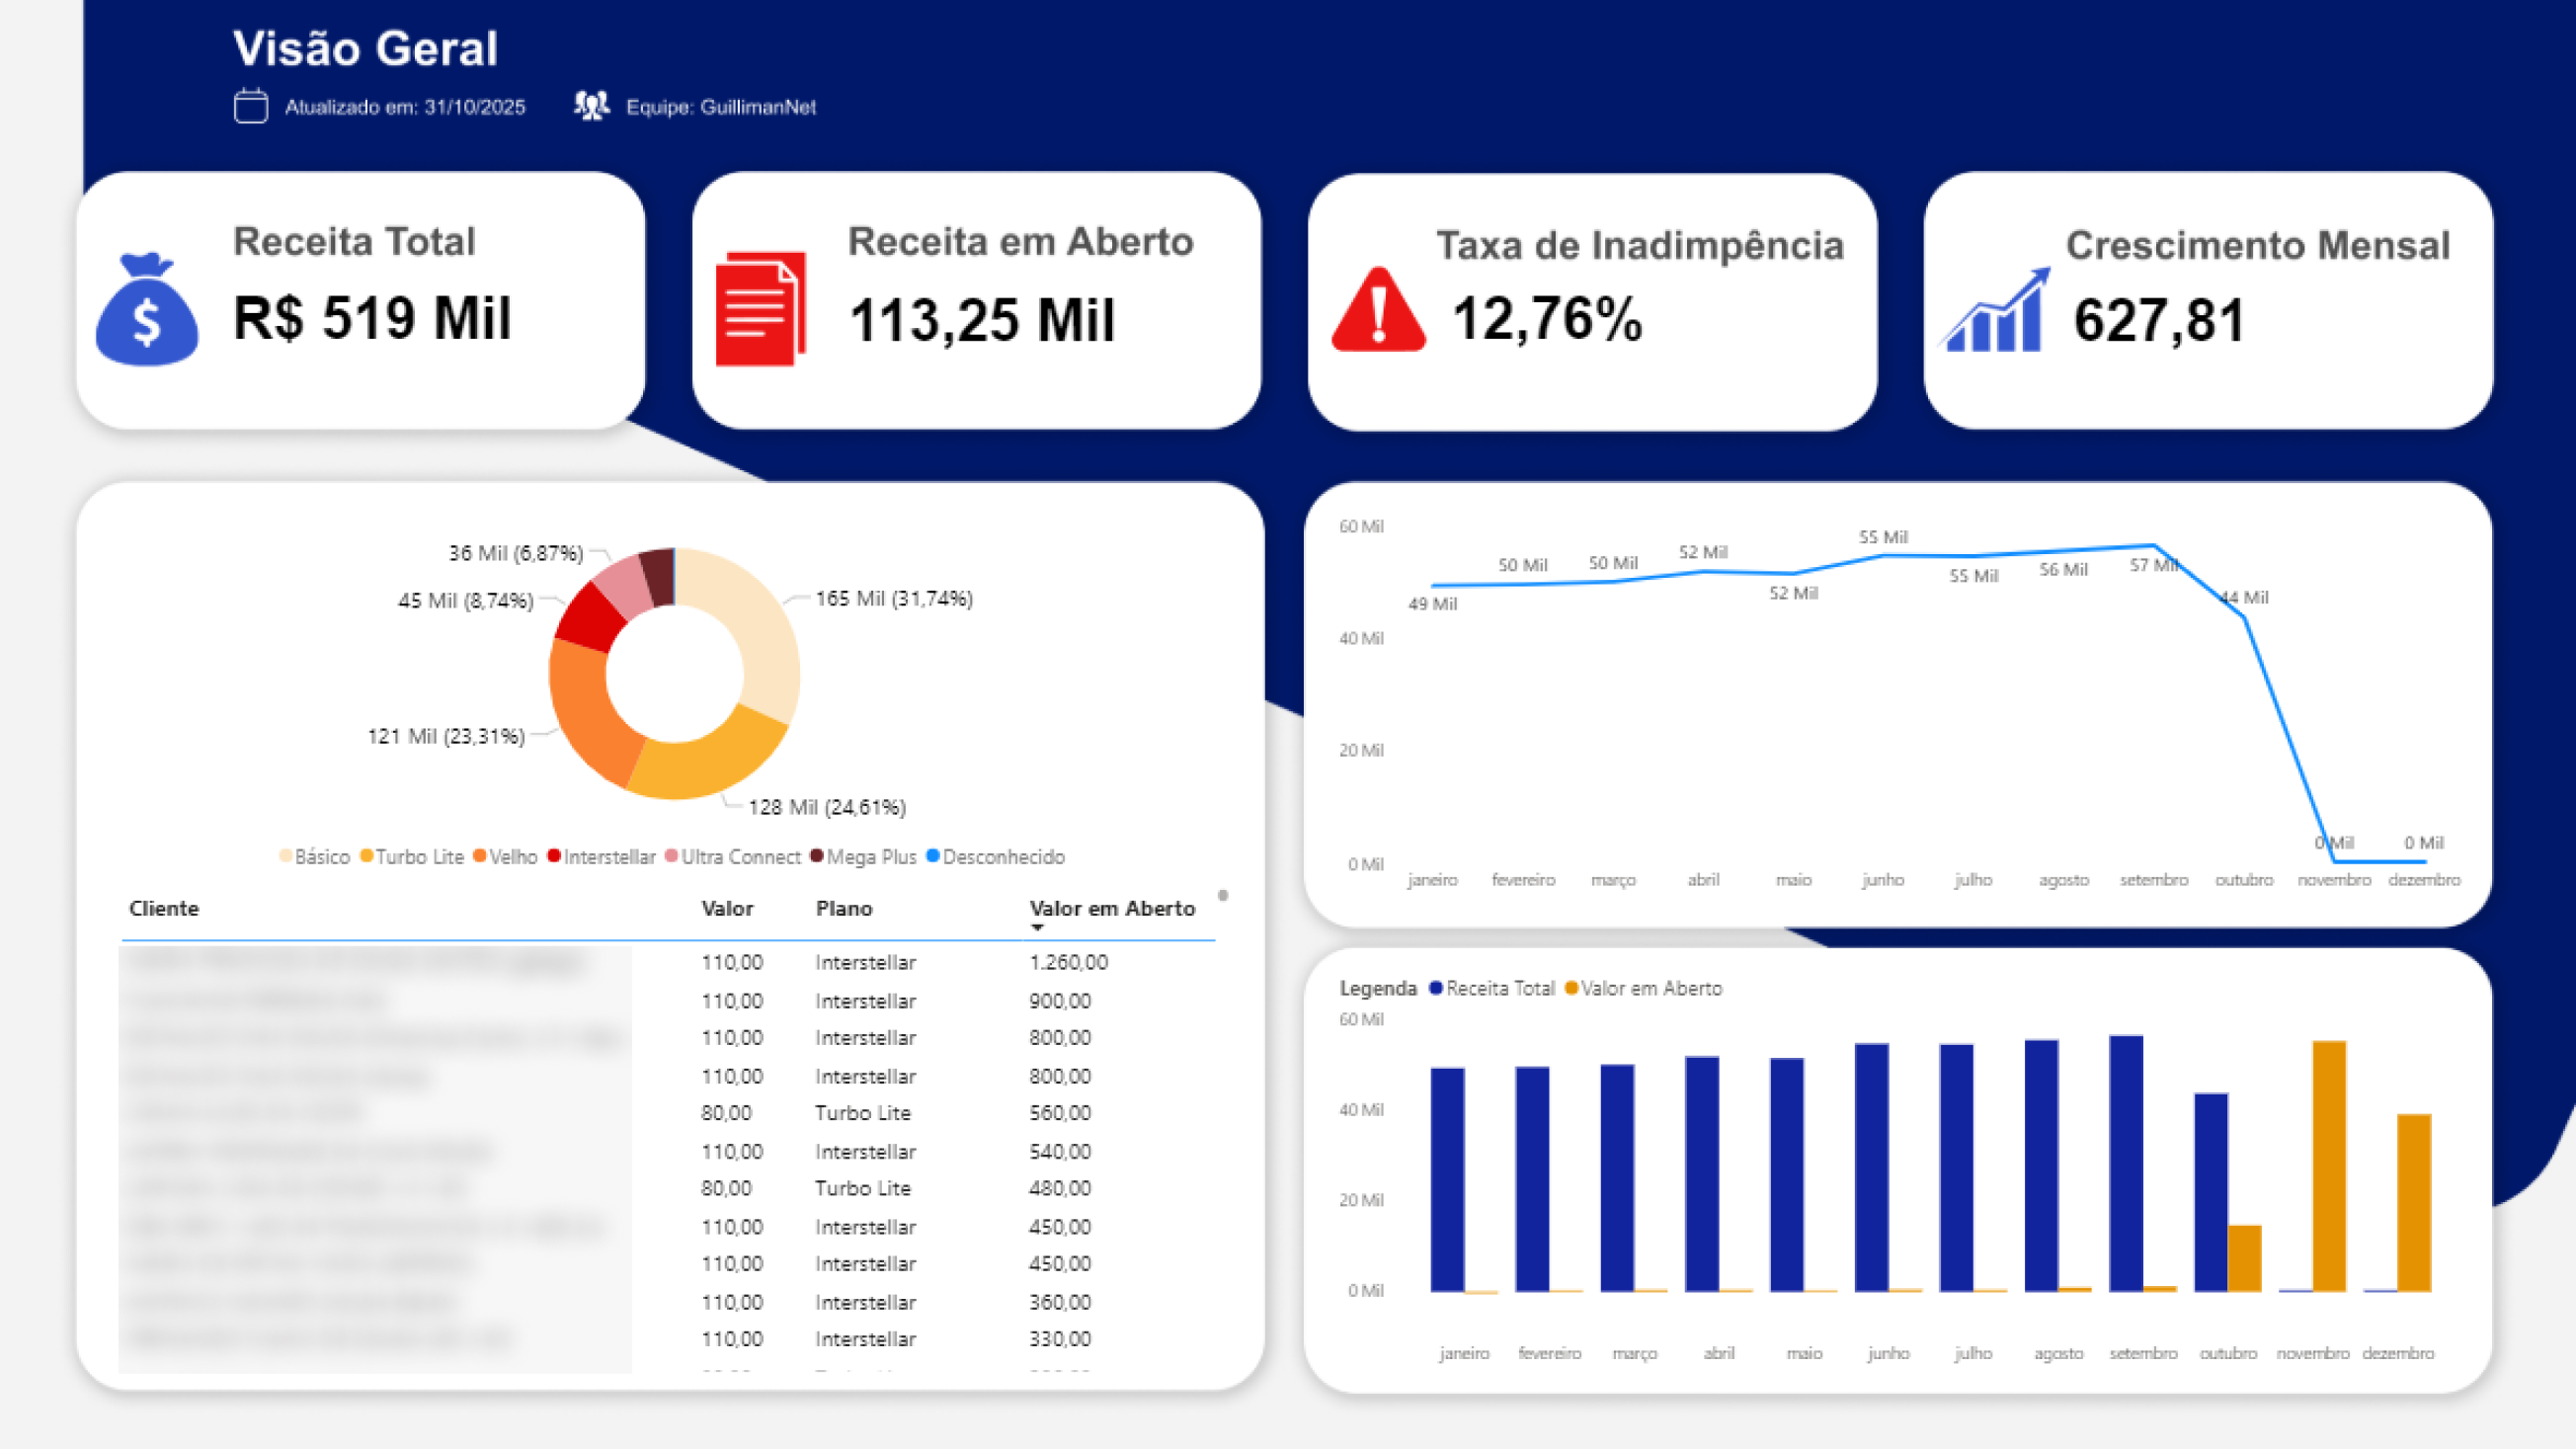

This screenshot's page, from the dashboard's own definition file:
{"tool":"powerbi","page":{"name":"Página 1","canvas":[1920,1080],"ordinal":1},"visuals":[{"type":"lineChart","fields":{"Y":["Medidas.Receita Total"],"Category":["FatoCobrancas.DataVencimento.Variation.Hierarquia de datas.Mês"]},"box":[995,380,847.5,295],"z":0},{"type":"clusteredColumnChart","fields":{"Y":["Medidas.Receita Total","Medidas.Valor em Aberto"],"Category":["FatoCobrancas.DataVencimento.Variation.Hierarquia de datas.Mês"]},"box":[995,715,847.5,310],"z":1000},{"type":"pieChart","fields":{"Category":["DimPlanos.NomePlano"],"Y":["FatoCobrancas.Pago"]},"box":[90,380,834,278],"z":2000},{"type":"tableEx","fields":{"Values":["FatoCobrancas.Cliente","DimPlanos.ValorMensal","DimPlanos.NomePlano","Medidas.Valor em Aberto"]},"box":[90,658,834,368],"z":3000},{"type":"card","fields":{"Values":["Medidas.Receita Total"]},"box":[172,196,220,84],"z":4000},{"type":"card","fields":{"Values":["Medidas.Valor em Aberto"]},"box":[627.5,195,215,85],"z":5000},{"type":"card","fields":{"Values":["Medidas.Taxa Inadimplencia"]},"box":[1076,196,160,82],"z":6000},{"type":"card","fields":{"Values":["Medidas.Lucro por Cliente"]},"box":[1506,202,230,72],"z":7000}]}

Visuals, with their boxes in screenshot pixels (x1, y1, x2, y2), scaled from the page's 1920x1080 canvas onto the 2576x1449 screenshot:
lineChart - Medidas.Receita Total x FatoCobrancas.DataVencimento.Variation.Hierarquia de datas.Mês: 1335:510:2472:906
clusteredColumnChart - Medidas.Receita Total x Medidas.Valor em Aberto: 1335:959:2472:1375
pieChart - DimPlanos.NomePlano x FatoCobrancas.Pago: 121:510:1240:883
tableEx - FatoCobrancas.Cliente x DimPlanos.ValorMensal: 121:883:1240:1377
card - Medidas.Receita Total: 231:263:525:375
card - Medidas.Valor em Aberto: 842:262:1130:375
card - Medidas.Taxa Inadimplencia: 1444:263:1658:373
card - Medidas.Lucro por Cliente: 2021:271:2329:367
